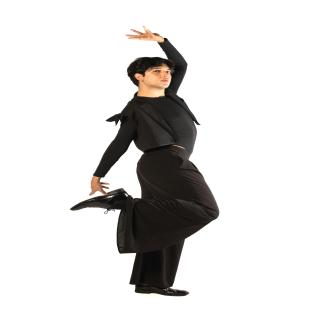Human: (70, 26, 219, 297)
